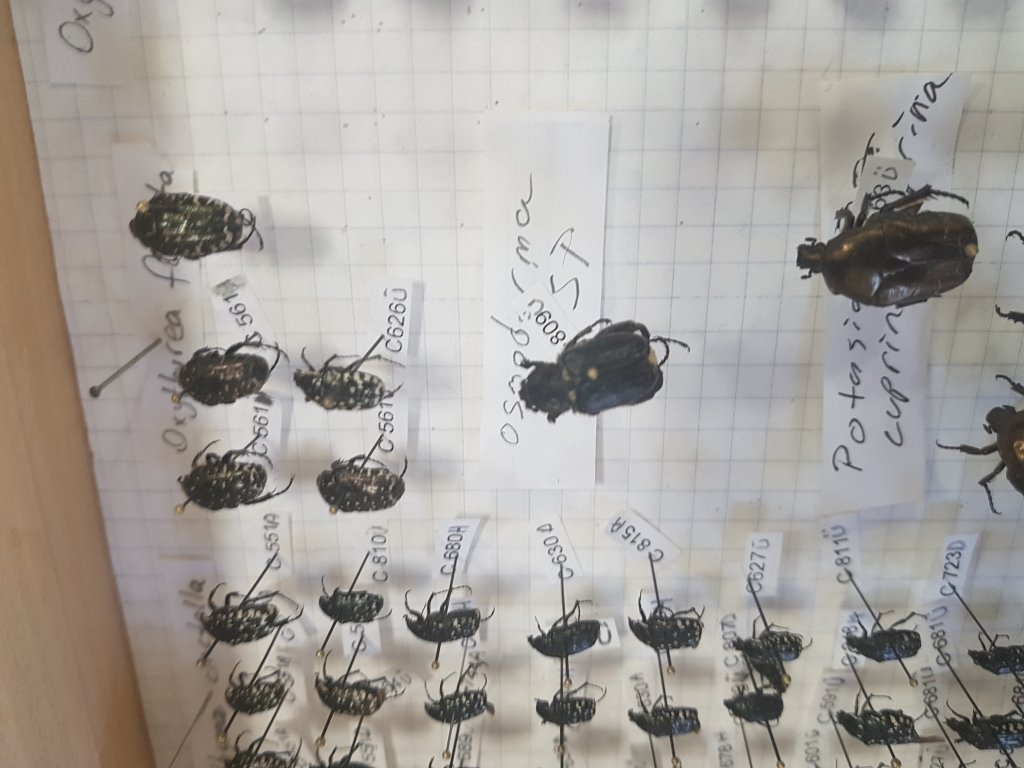Oxythyrea_funesta: (289, 354, 402, 412)
